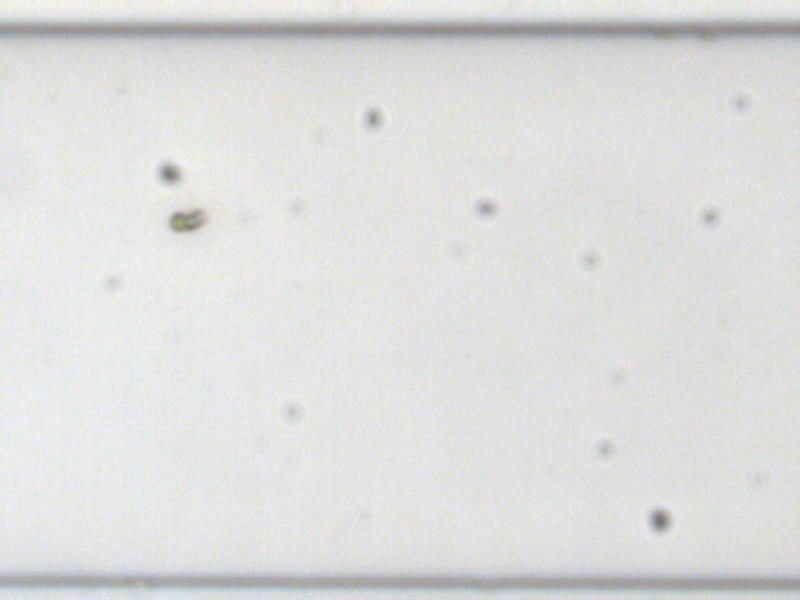Dunaliella salina: (164, 208, 209, 233)
